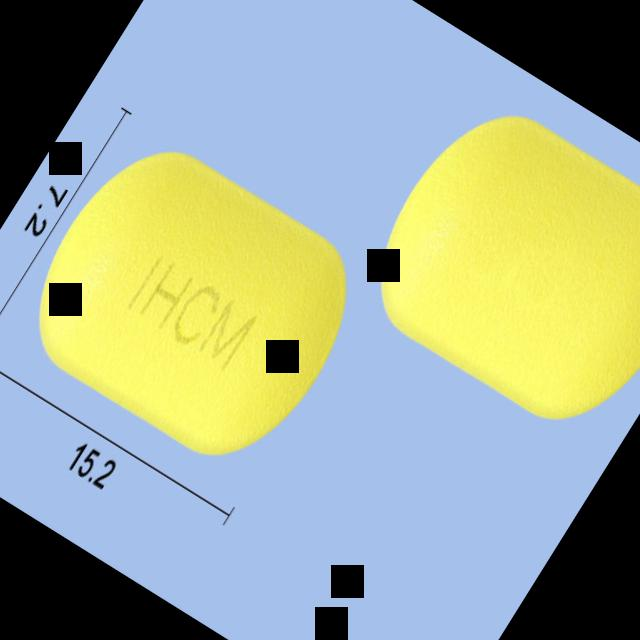Claritin: (1, 120, 382, 489)
